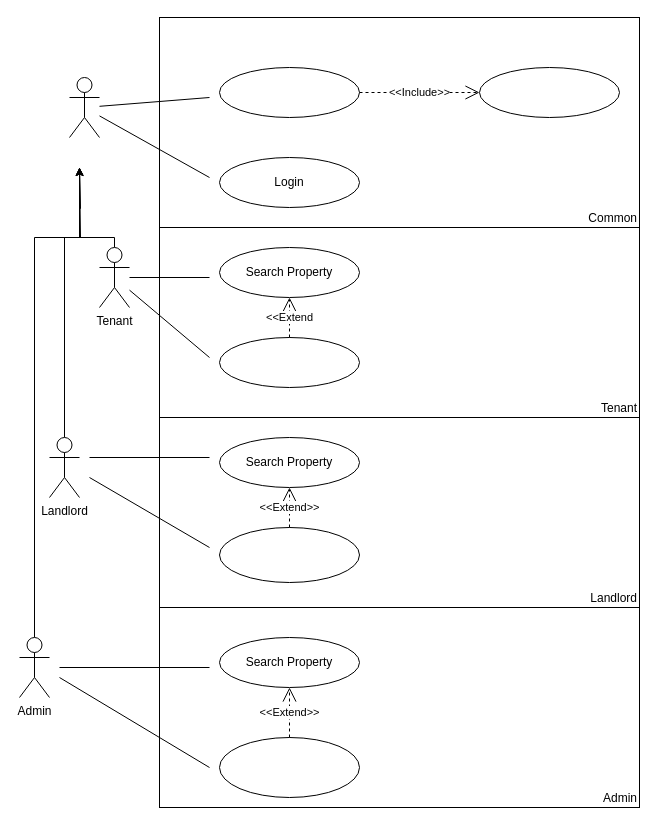
Some shapes in this 657 by 825 pixel diagram are drawn without their labels. Here are the shapes that lost their labels. From the top down, the centre of each, then its label:
point 84,107: User
point 289,92: Register
point 549,92: Complete Profile
point 289,362: Property Review
point 289,554: Add Comments
point 289,767: Moderates Comments and Reviews
